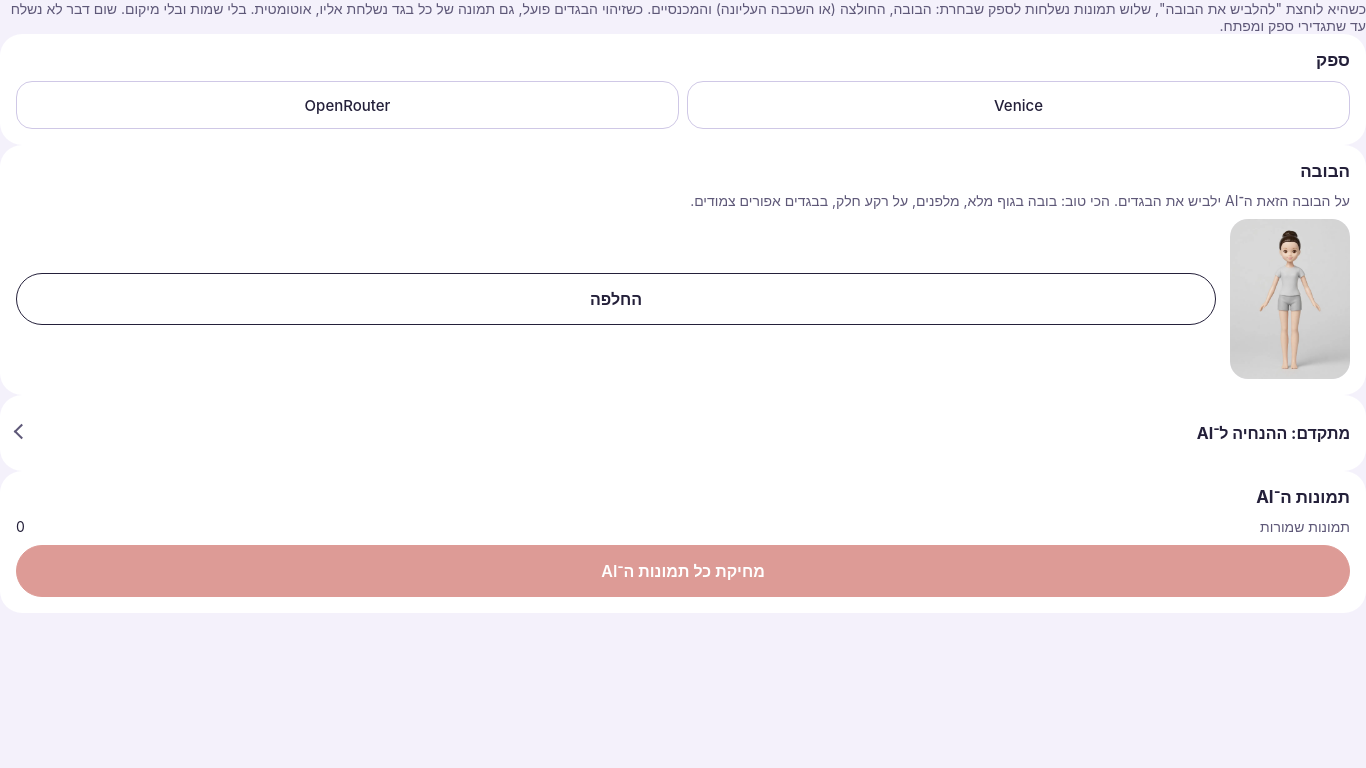
Test: AiSettingsScreen › edits the prompt under "מתקדם" and goes back to the built-in one
Click the heading "מתקדם: ההנחיה ל־AI": (1273, 433) [1197,423,1350,443]
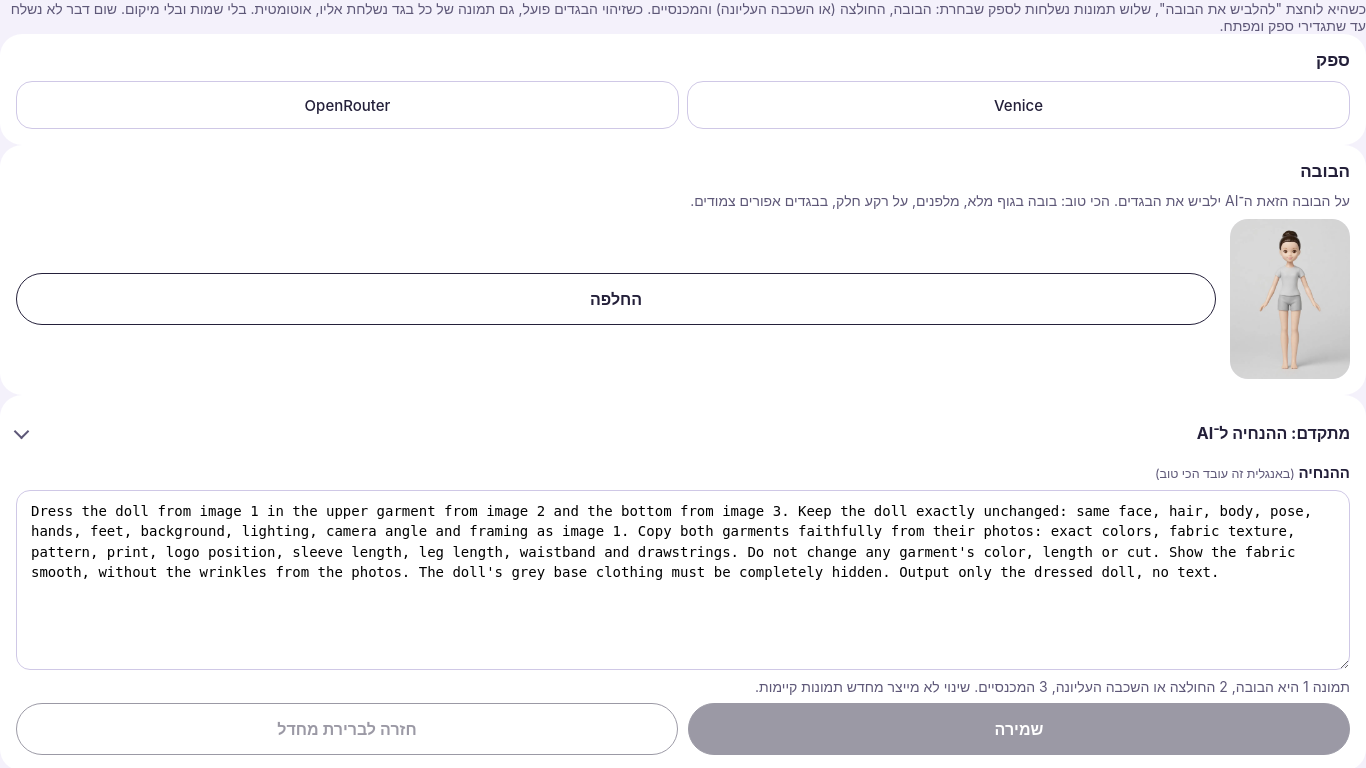
Now the text box labelled "ההנחיה (באנגלית זה עובד הכי טוב)" holds "Dress the doll from image 1 in the upper garment from image 2 and the bottom from image 3. Keep the doll exactly unchanged: same face, hair, body, pose, hands, "
Now the button "חזרה לברירת מחדל" is disabled, box [16,703,678,755]
Replace the text in the text box labelled "ההנחיה (באנגלית זה עובד הכי טוב)" with "Dress the doll.": (683, 580) [16,490,1350,670]
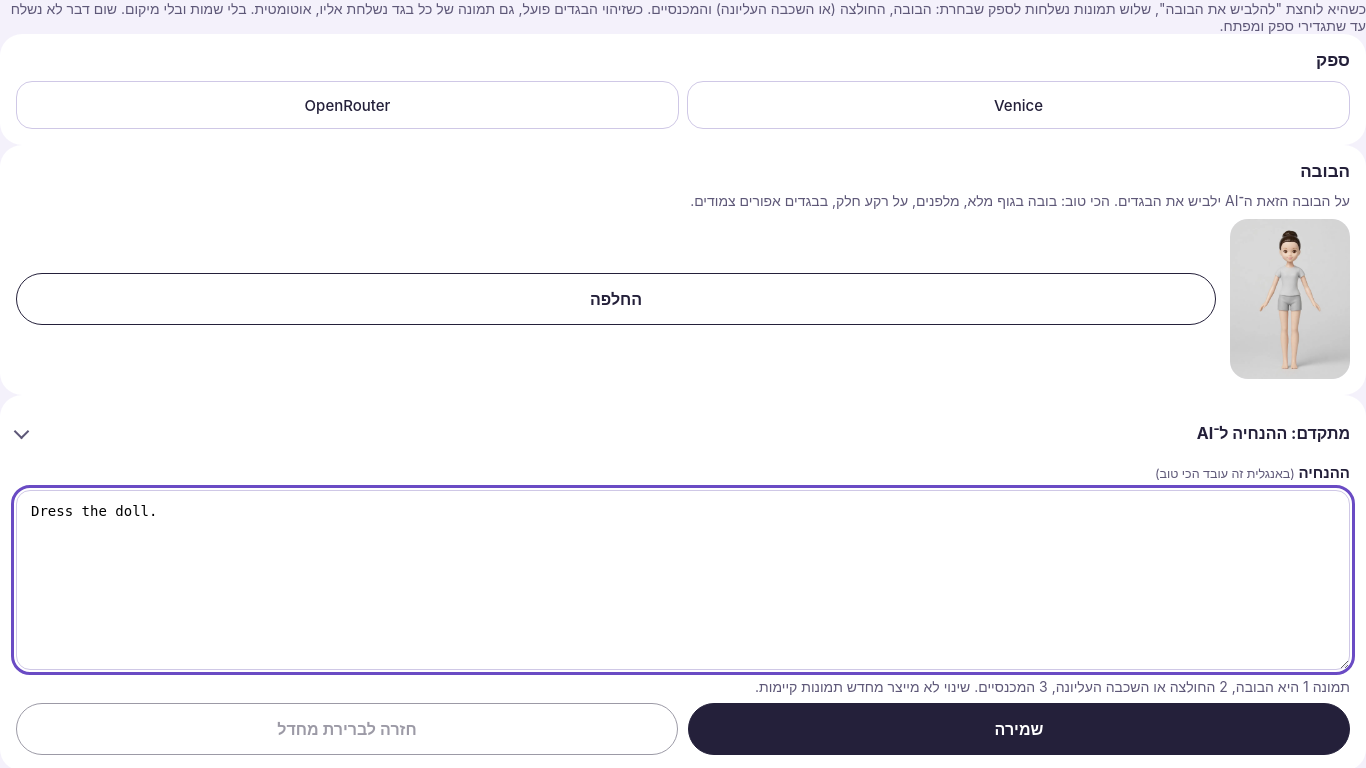
Click the button "שמירה": (1019, 729) [688,703,1350,755]
(page scrolled)
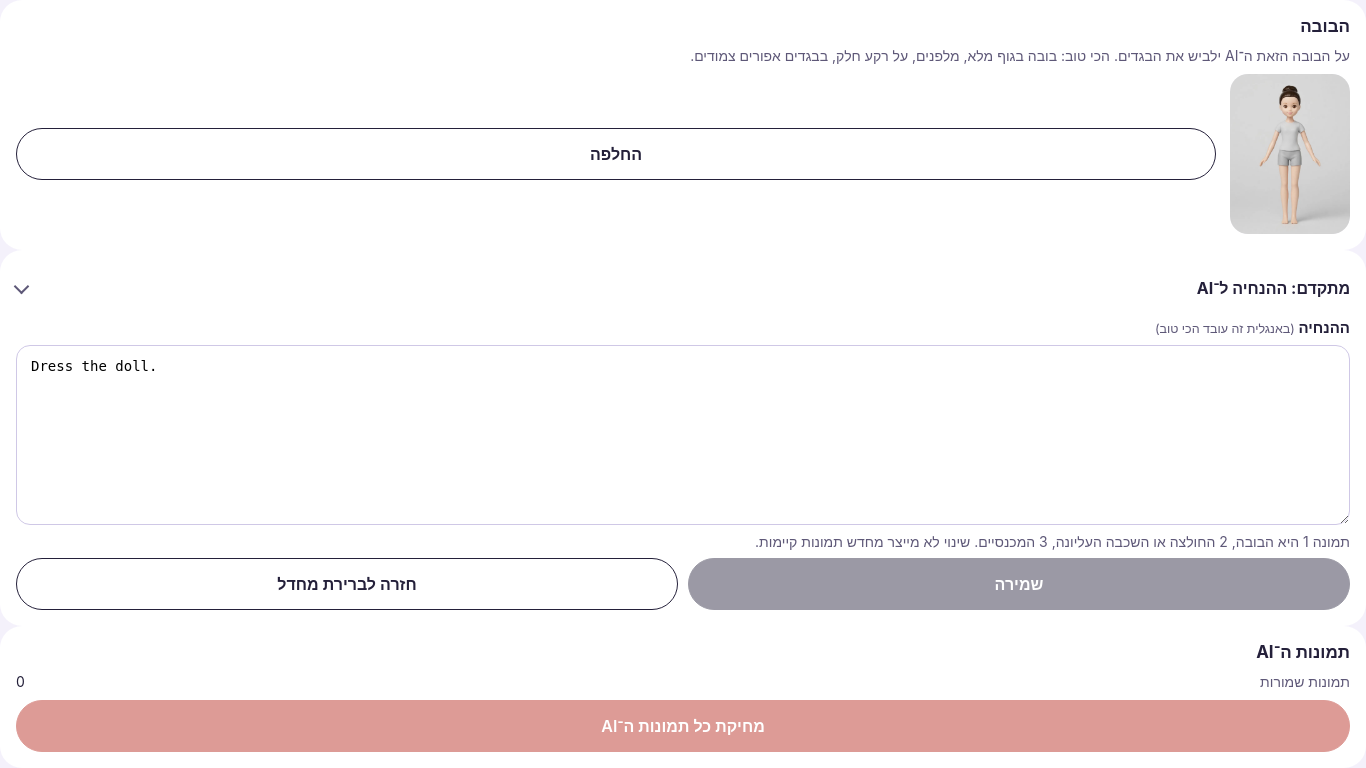
Click the button "חזרה לברירת מחדל": (347, 584) [16,558,678,610]
(page scrolled)
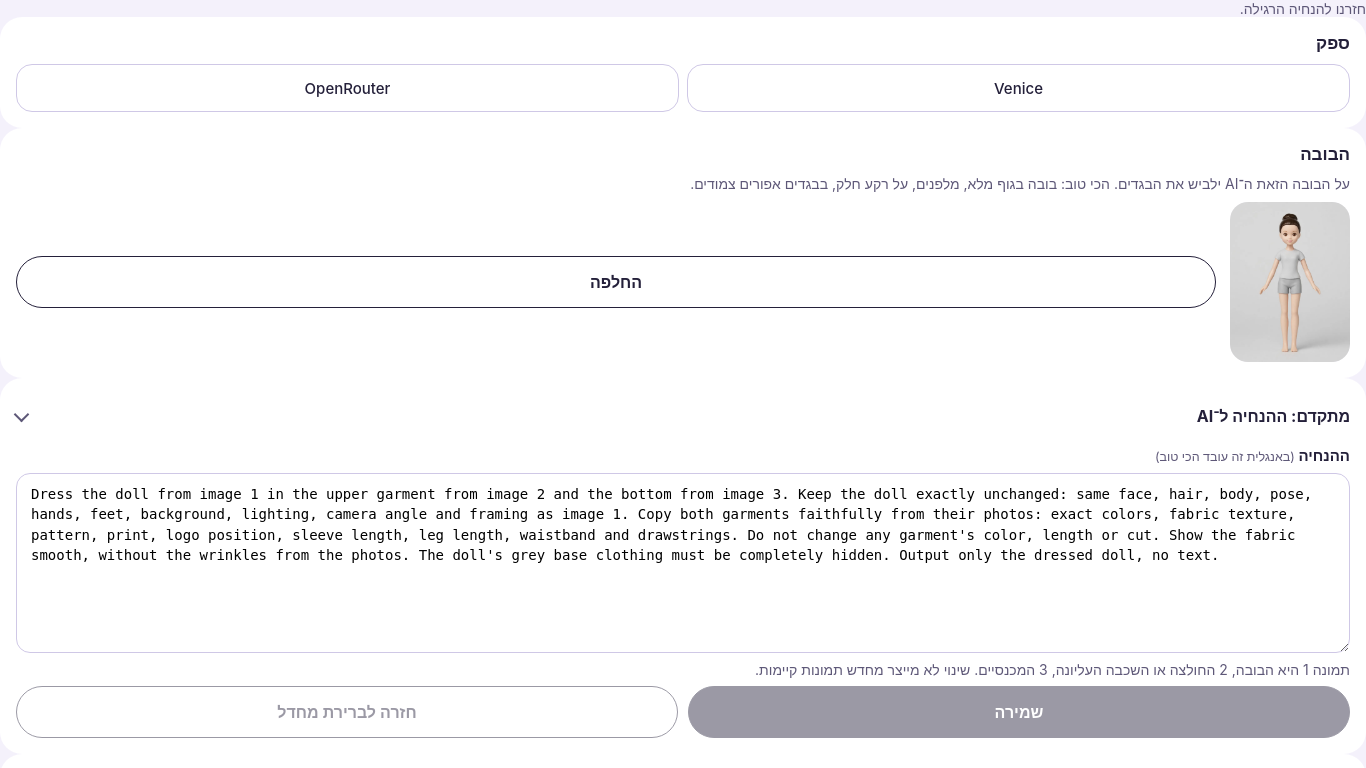
Now the text "חזרנו להנחיה הרגילה." is shown, box [1240,0,1365,17]
Now the text box labelled "ההנחיה (באנגלית זה עובד הכי טוב)" holds "Dress the doll from image 1 in the upper garment from image 2 and the bottom from image 3. Keep the doll exactly unchanged: same face, hair, body, pose, hands, ", box [16,473,1350,653]
